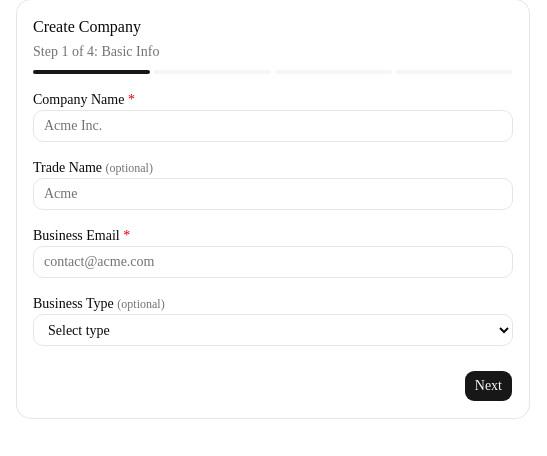
Test: T084 — CompanyCreateWizard › prevents progression from step 1 with invalid email
The width and height of the screenshot is (547, 456).
Type "Test Corp" into the field labelled "Company Name *" at x=273, y=126, box [33,110,513,142]
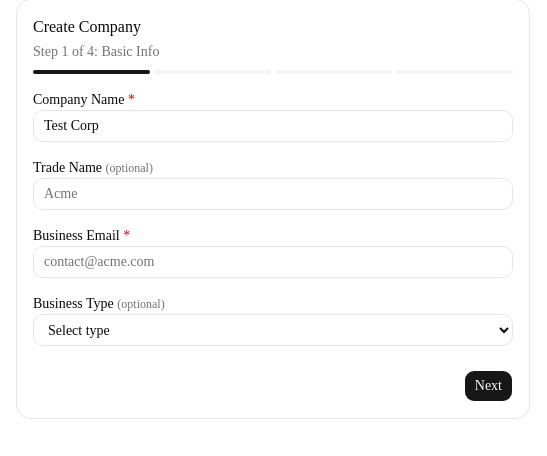
Type "not-an-email" into the field labelled "Business Email *" at x=273, y=262, box [33,246,513,278]
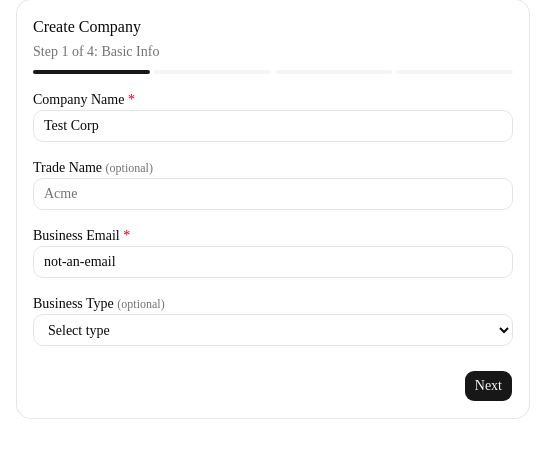
Click the button "Next" at x=488, y=386, box [464,370,513,402]
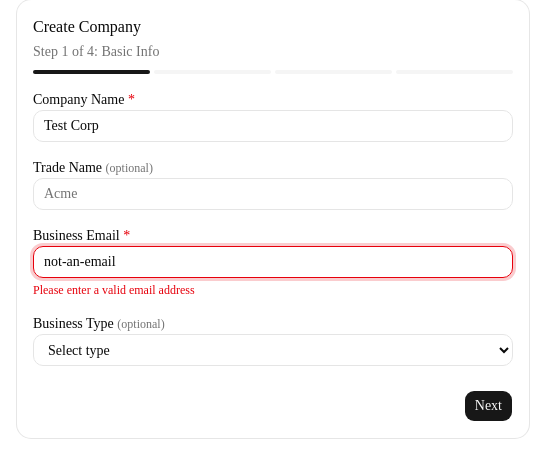
Expected: the text "Please enter a valid email address" is shown, [33,283,195,297]
